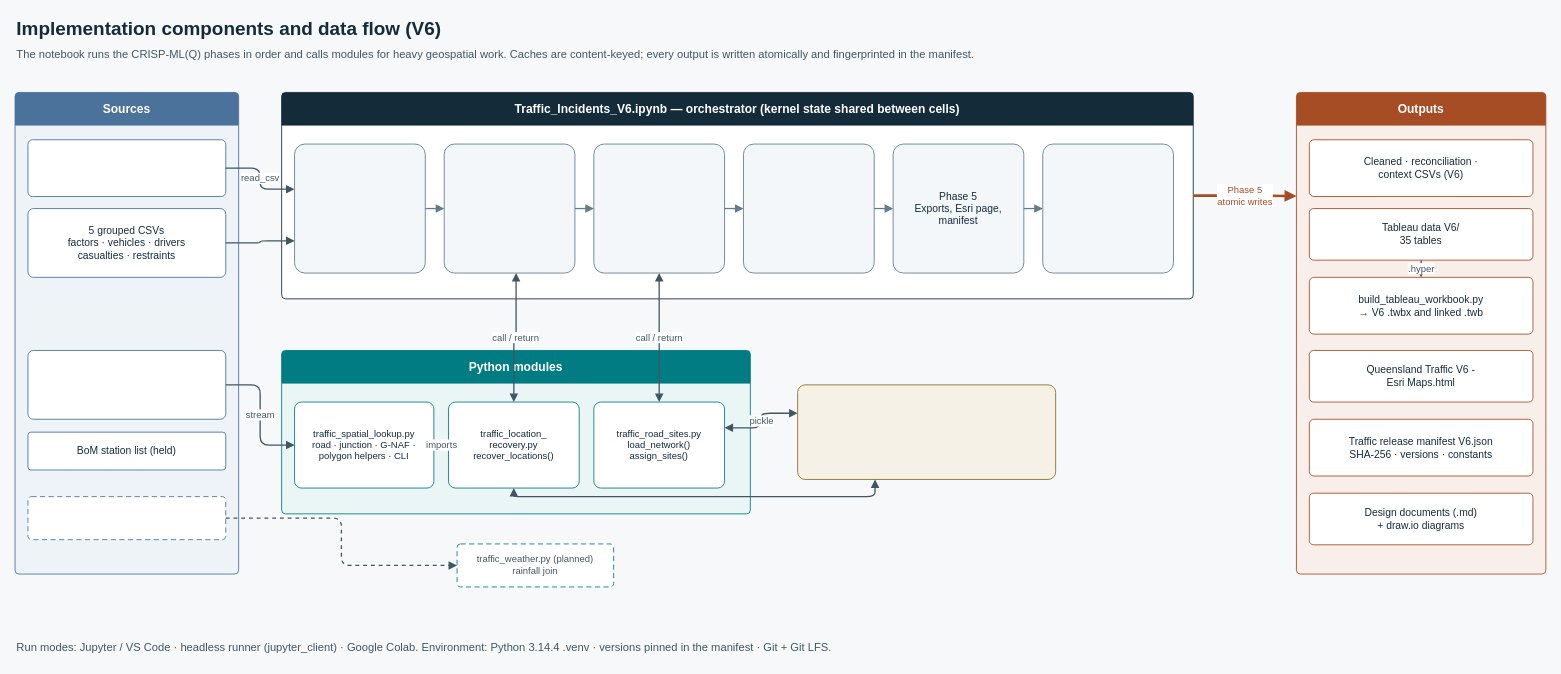
Image size: 1561x674. Some labels were removed from this diagram. Each missing label, with the centre of its shape:
".cache/ location_recovery_<key>.pkl road_network_<key>.pkl" belongs at pixel 926 431.
"Phase 1 Load, profile, key audit" belongs at pixel 359 208.
"Phase 2 Recovery, tallies, recording and severity-mix checks, exploration" belongs at pixel 509 208.
"Phase 3 Severity models, site screening, rules, adjusted odds" belongs at pixel 659 208.
"Phase 4 Evaluation; reliability R1–R7" belongs at pixel 808 208.
"Phase 6 Monitoring and maintenance notes" belongs at pixel 1107 208.
"Public spatial data/ roads · locality · postal police · G-NAF" belongs at pixel 126 384.
"Rainfall amounts (planned)" belongs at pixel 126 518.
"Road crash locations.csv 415,407 × 53" belongs at pixel 126 168.
